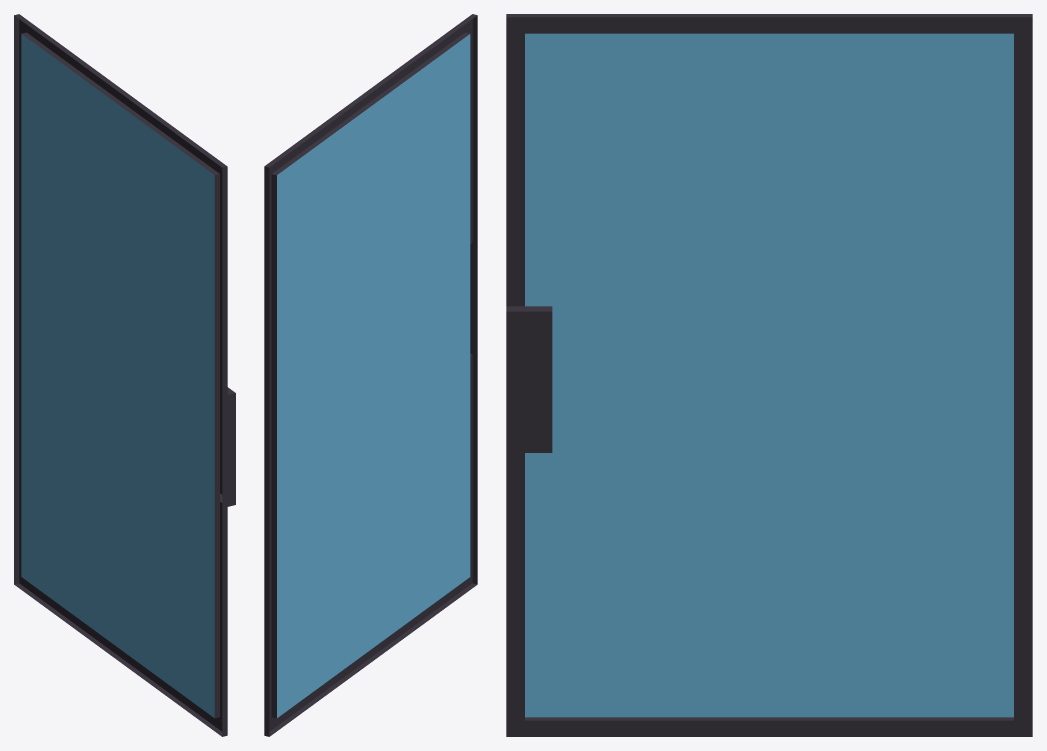
The model's file is future_door.fbx.
The picture shows the model from 3 angles, left to right: view 1: azimuth 30°, elevation 25°; view 2: azimuth 150°, elevation 25°; view 3: azimuth 270°, elevation 25°; orthographic projection. The views are drawn at different scales.
Parts seen in each view (by area): view 1: Plane.001; view 2: Plane.001; view 3: Plane.001.
Part boxes in pixels (x1,y1,x2,y2): Plane.001: [14, 14, 235, 736]; Plane.001: [264, 14, 477, 736]; Plane.001: [506, 14, 1032, 736].
Bounding box in the file's own units: 12.09 × 481 × 319.
